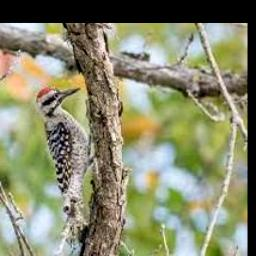Woodpecker: (36, 87, 93, 256)
